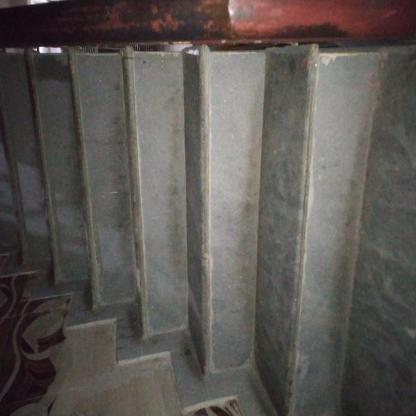stair: (0, 38, 416, 393)
